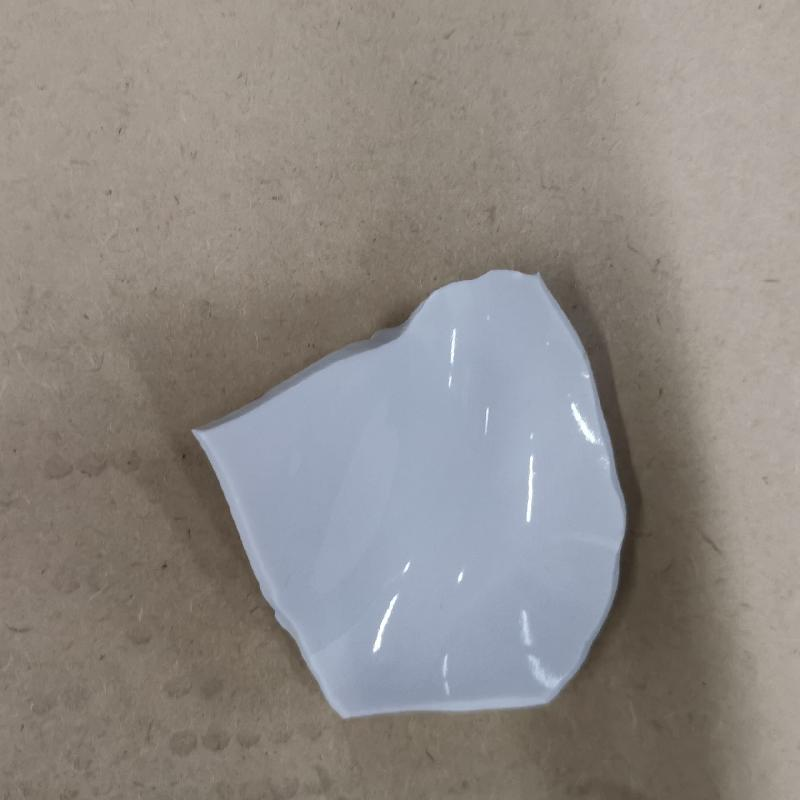ceram: (182, 266, 628, 721)
